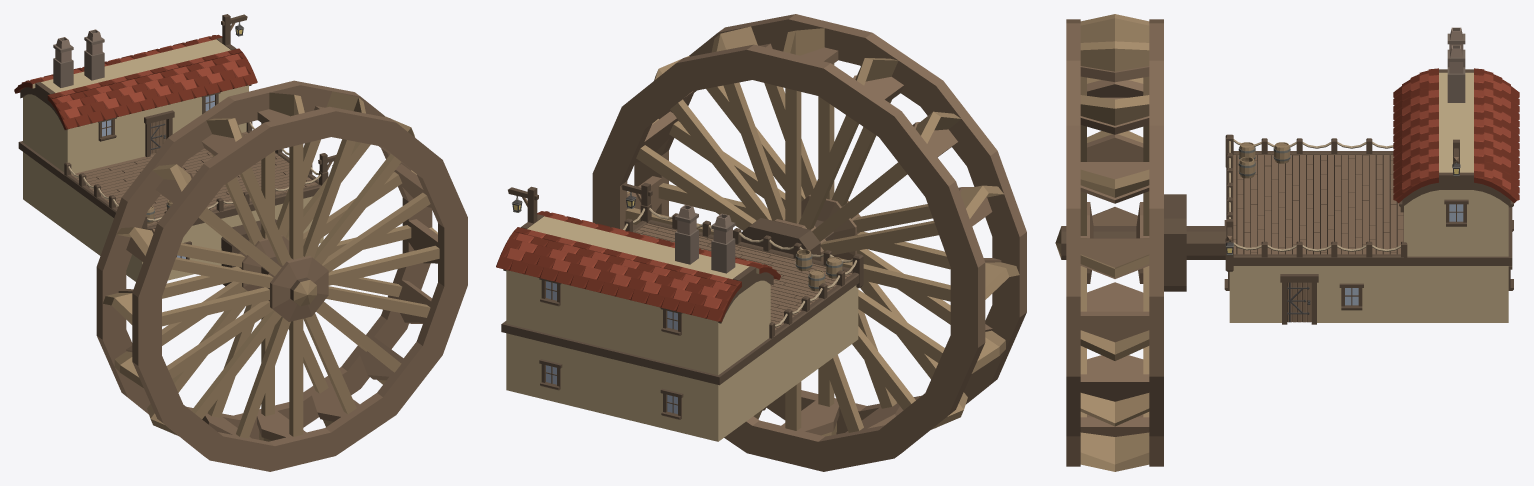
The model's file is WoodVillageWaterWheel.fbx.
3 views of the same model, side by side, from view 1: azimuth 30°, elevation 25°; view 2: azimuth 150°, elevation 25°; view 3: azimuth 270°, elevation 25° (orthographic). The views are drawn at different scales.
Parts seen in each view (by area): view 1: mergedBlocks; view 2: mergedBlocks; view 3: mergedBlocks.
Part boxes in pixels (x1,y1,x2,y2): mergedBlocks: [14, 14, 467, 471]; mergedBlocks: [496, 14, 1026, 471]; mergedBlocks: [1055, 14, 1519, 471].
Size of the model in its own units: 132 by 132 by 133.
